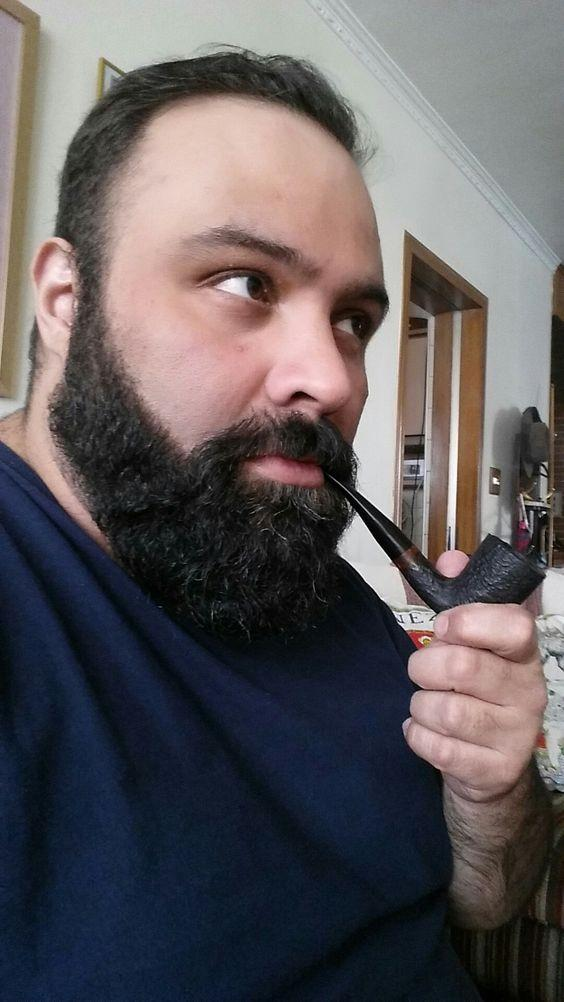trubka: (325, 470, 545, 613)
